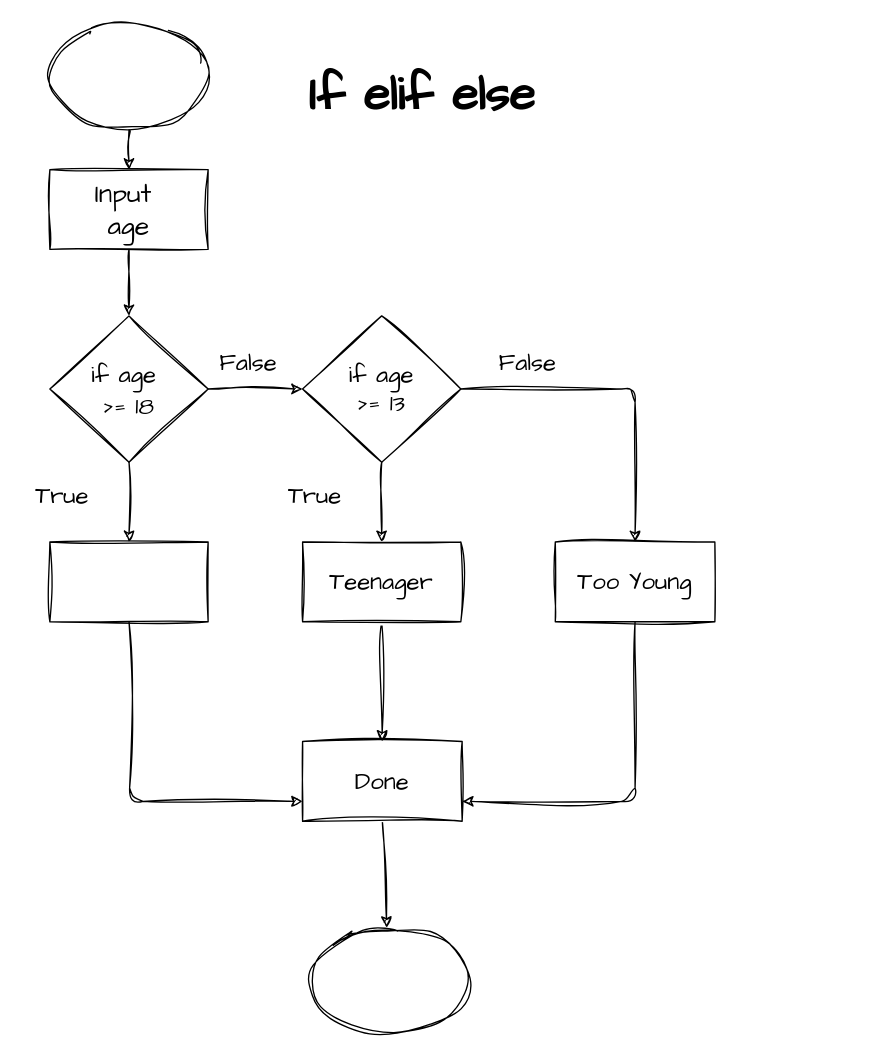
Some shapes in this 883 by 1057 pixel diagram are drawn without their labels. The shapes that lost their labels are listed below. From the top down, each one's centre as x and y in pixels, then its label:
At point (128, 76): "Start".
At point (128, 581): "Legall Age".
At point (388, 980): "End".
